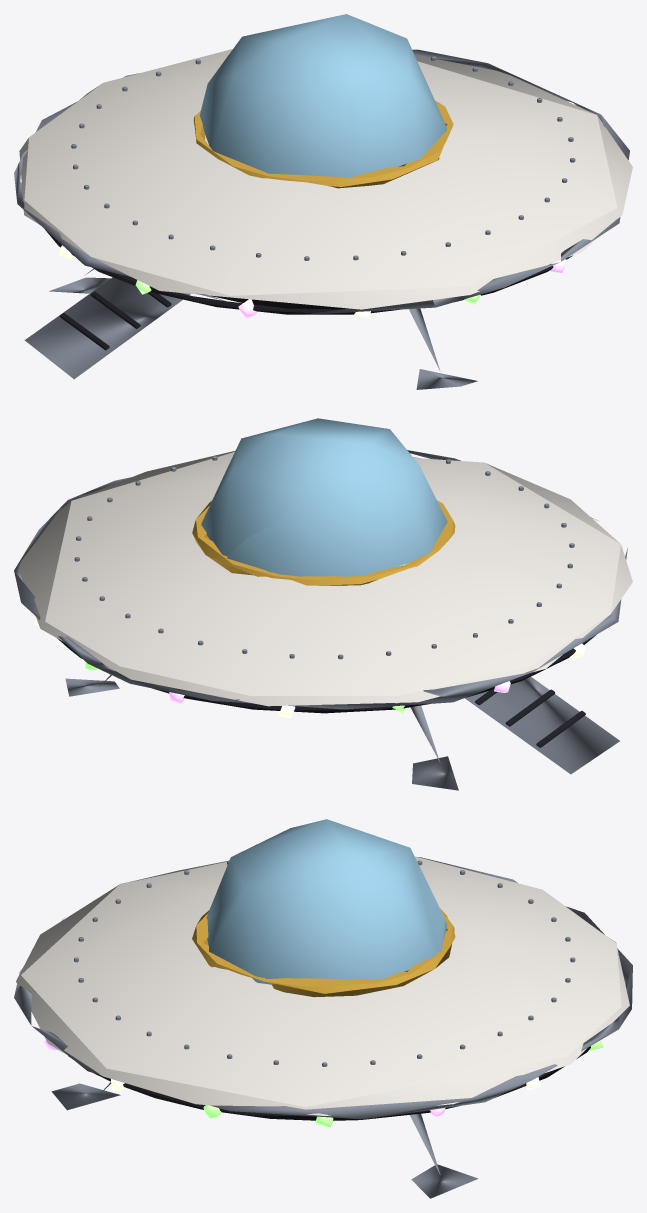
Rendered from ufo.glb.
3 renders of one model, top to bottom at view 1: azimuth 30°, elevation 25°; view 2: azimuth 150°, elevation 25°; view 3: azimuth 270°, elevation 25°, orthographic.
Parts seen in each view (by area): view 1: ufo.002, ufo_lights.002; view 2: ufo.002, ufo_lights.002; view 3: ufo.002, ufo_lights.002.
Part boxes in pixels (bbox=[...]): ufo.002: bbox=[14, 14, 632, 389]; ufo_lights.002: bbox=[22, 208, 614, 319]; ufo.002: bbox=[14, 418, 632, 790]; ufo_lights.002: bbox=[35, 601, 621, 718]; ufo.002: bbox=[14, 819, 632, 1198]; ufo_lights.002: bbox=[44, 1040, 603, 1127].
Bounding box in the file's own units: 6.15 × 2.83 × 6.11.
1 material, 1 textured.
